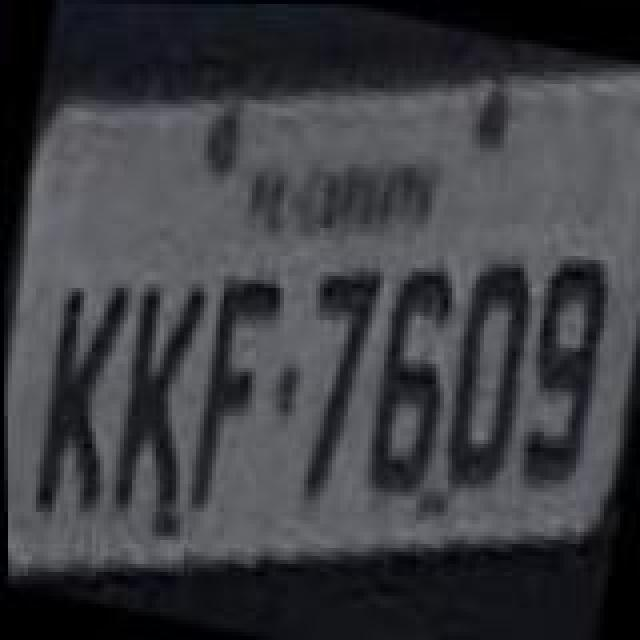6: (356, 260, 468, 504)
7: (276, 258, 388, 502)
9: (506, 246, 622, 494)
F: (178, 266, 290, 518)
K: (96, 272, 220, 528), (18, 278, 138, 530)
O: (430, 254, 546, 498)
